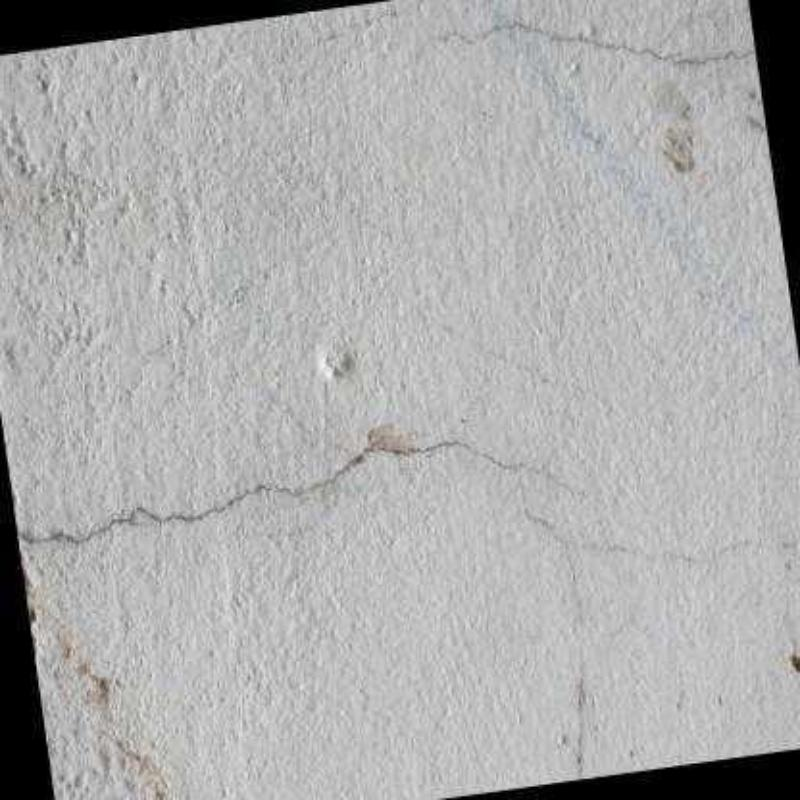pothole: (525, 510, 752, 781), (21, 438, 565, 549), (448, 18, 756, 67)
